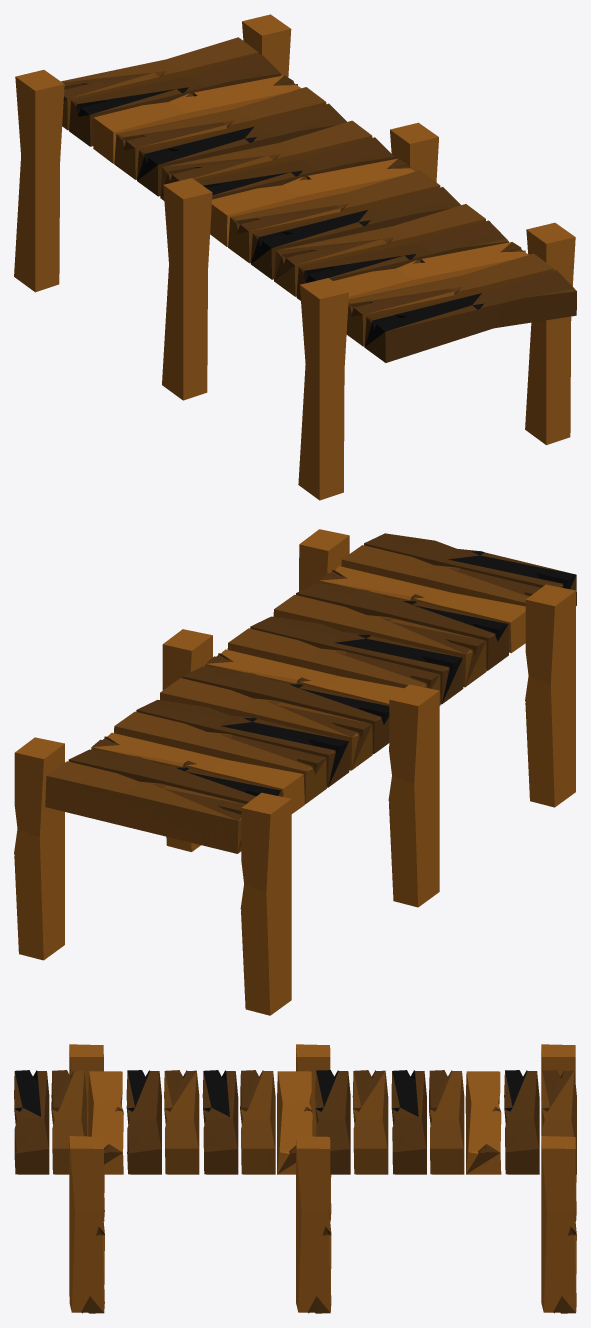
Rendered from PonteMadeira.glb.
3 renders of one model, top to bottom at view 1: azimuth 30°, elevation 25°; view 2: azimuth 150°, elevation 25°; view 3: azimuth 270°, elevation 25°, orthographic. The views are drawn at different scales.
Parts seen in each view (by area): view 1: PonteMadeira; view 2: PonteMadeira; view 3: PonteMadeira.
Part boxes in pixels (x1,y1,x2,y2): PonteMadeira: (14,14,576,500); PonteMadeira: (14,529,576,1015); PonteMadeira: (14,1044,576,1313).
Size of the model in its own units: 2.61 by 1.95 by 5.97.
1 material, 1 textured.
